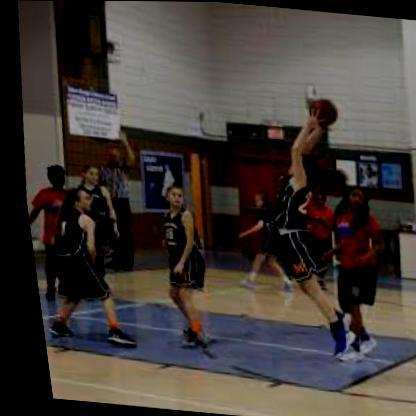basketball: (303, 97, 339, 126)
